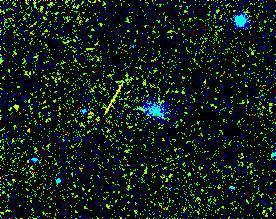star: (99, 78, 129, 108)
